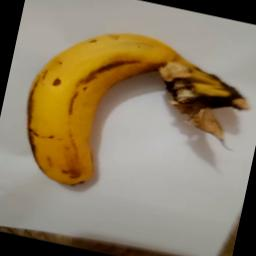Banana Unripe: (5, 12, 250, 216)
